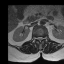CCS_normal: (39, 35, 41, 43)
LFS_stenosis: (43, 36, 44, 40)
LLS_normal: (41, 35, 43, 41)
RFS_normal: (35, 35, 37, 40)
RLS_normal: (37, 35, 39, 41)
